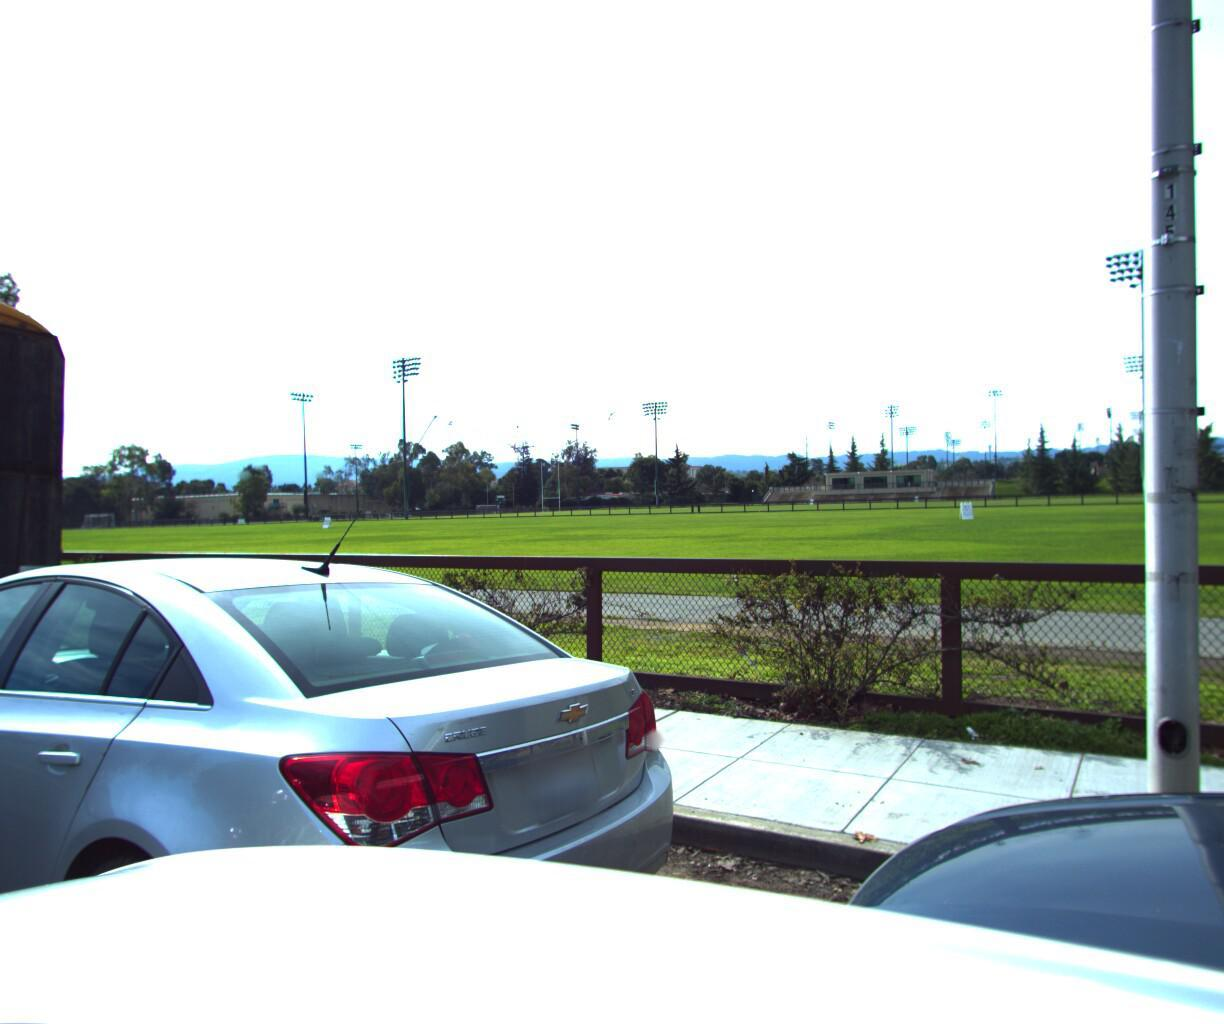bus: (0, 224, 145, 811)
car: (0, 543, 725, 1024)
